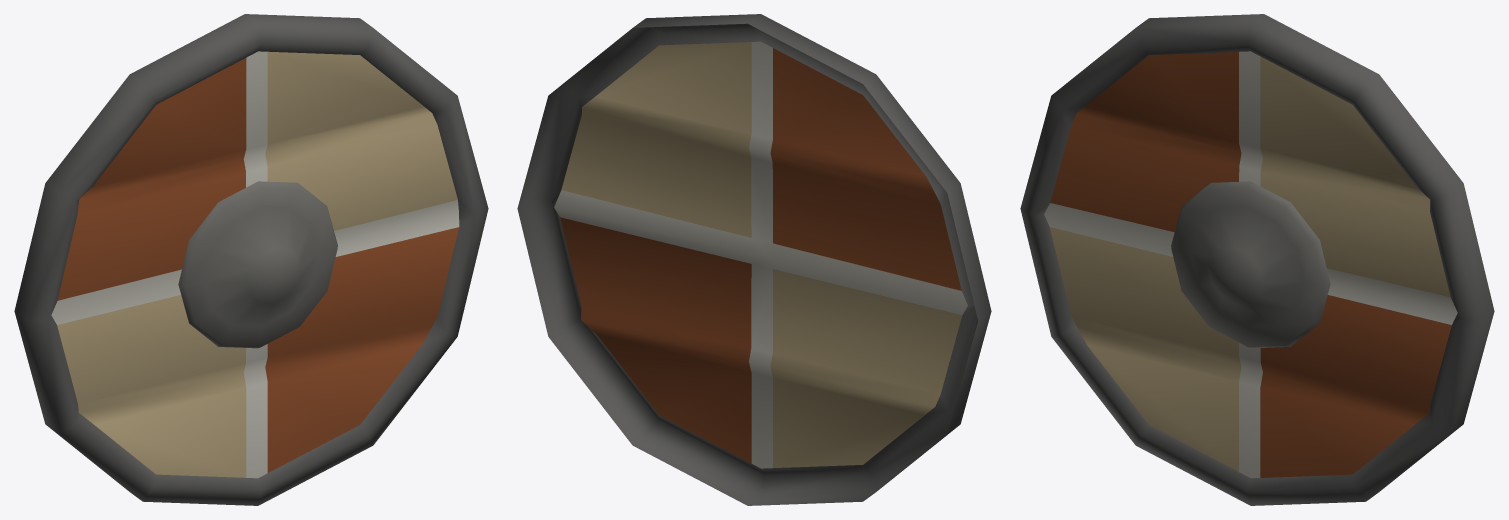
The model's file is rpgpp_lt_shield_wall_01a.glb.
3 views of the same model, side by side, from view 1: azimuth 30°, elevation 25°; view 2: azimuth 150°, elevation 25°; view 3: azimuth 330°, elevation 25° (orthographic).
Visible parts, largest first — view 1: rpgpp_lt_shield_wall_01a; view 2: rpgpp_lt_shield_wall_01a; view 3: rpgpp_lt_shield_wall_01a.
Boxes of the visible parts, bbox=[...] form: rpgpp_lt_shield_wall_01a: bbox=[14, 14, 488, 505]; rpgpp_lt_shield_wall_01a: bbox=[517, 14, 991, 505]; rpgpp_lt_shield_wall_01a: bbox=[1020, 14, 1494, 505].
Size of the model in its own units: 1 by 1 by 0.1226.
Materials: 1 (1 with a texture image).
